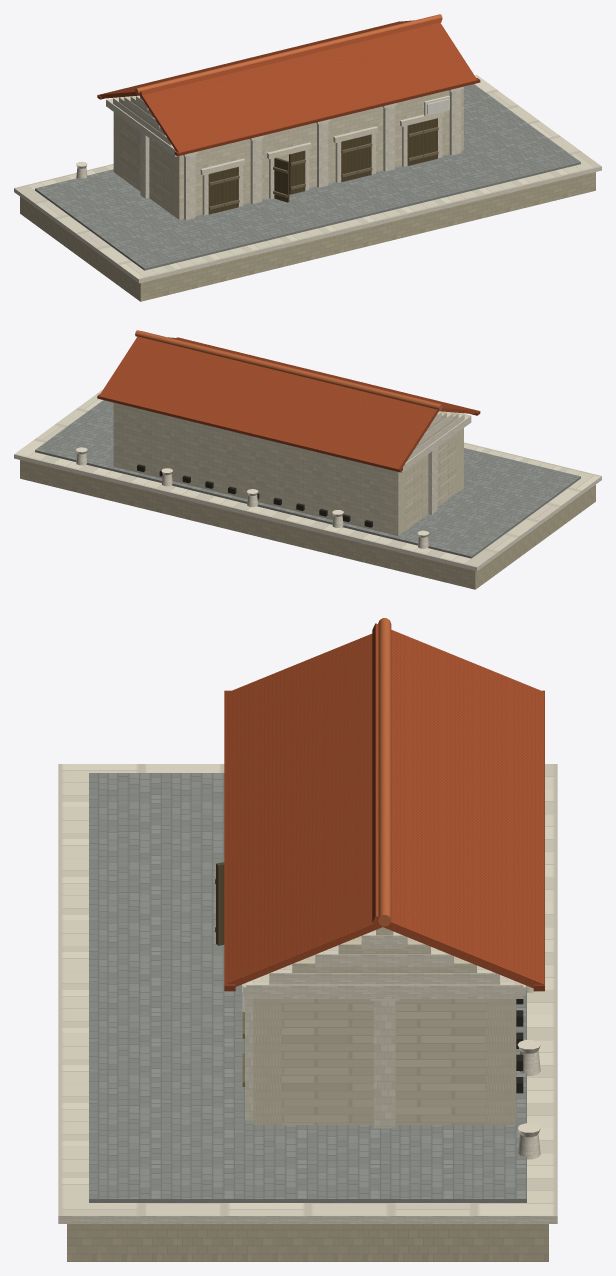
Rendered from civic-classical-public-granary-built.glb.
The picture shows the model from 3 angles, top to bottom: view 1: azimuth 30°, elevation 25°; view 2: azimuth 150°, elevation 25°; view 3: azimuth 270°, elevation 25°; orthographic projection. The views are drawn at different scales.
Bounding box in the file's own units: 48.8 × 13.75 × 22.8.
22 materials, 18 textured.
